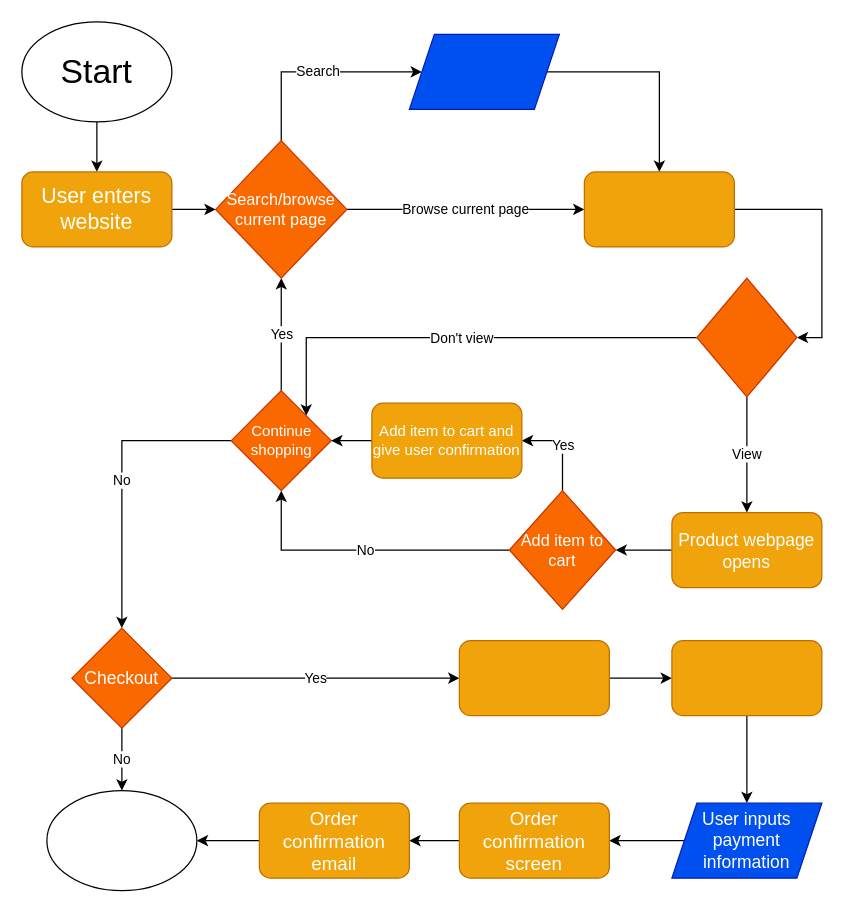
Image size: 854x913. Some labels were removed from this diagram. The shapes that lost their labels are listed below. From the top down, each one's box as (x1, y1, x2, y2) in pixels, then its label:
(408, 33, 559, 109): User inputs search terms
(583, 171, 734, 247): User looks through products
(696, 277, 797, 397): View a specific product
(458, 639, 609, 716): View cart screen
(671, 639, 822, 716): View payment screen
(46, 789, 197, 891): User leaves website
